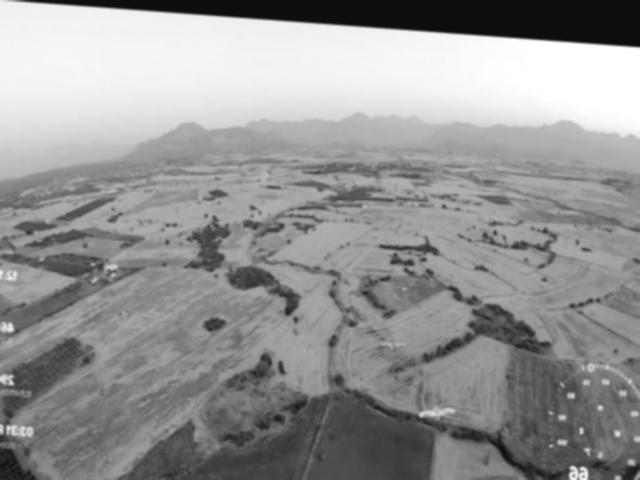hedef: (413, 390, 461, 422)
